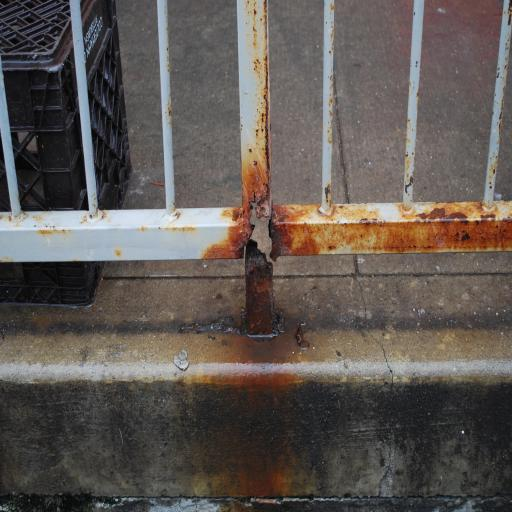segmentation: (270, 201, 512, 261), (237, 0, 271, 220), (245, 239, 279, 335), (205, 206, 253, 260), (324, 184, 331, 198)
